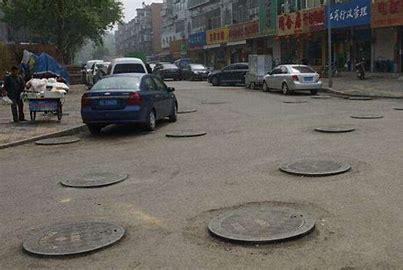wellcover: (205, 199, 324, 249), (272, 147, 353, 188), (47, 162, 139, 191), (308, 116, 361, 143), (156, 124, 215, 143), (348, 105, 391, 128), (2, 217, 7, 218)
